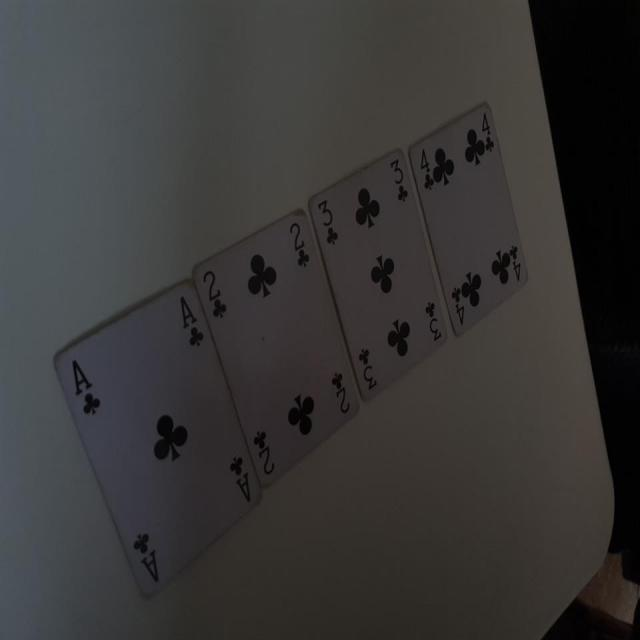2 Trefoils: (190, 205, 363, 490)
3 Trefoils: (308, 148, 450, 402)
4 Trefoils: (407, 102, 532, 340)
A Trefoils: (54, 281, 263, 601)
